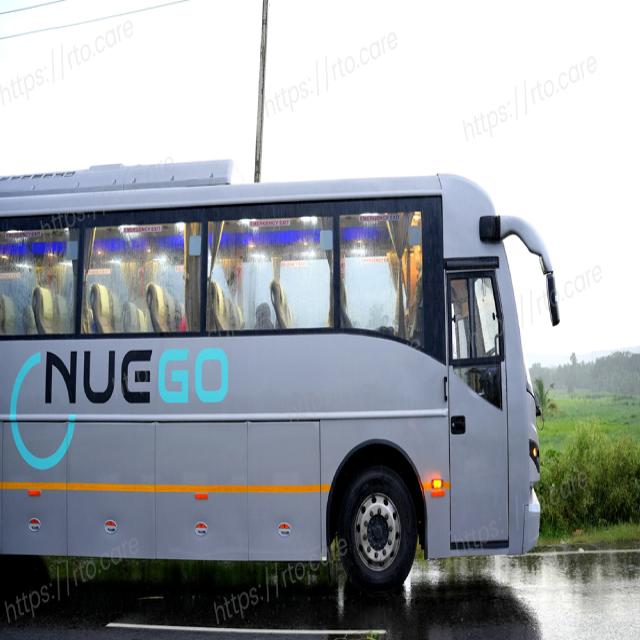bus: (0, 161, 561, 614)
